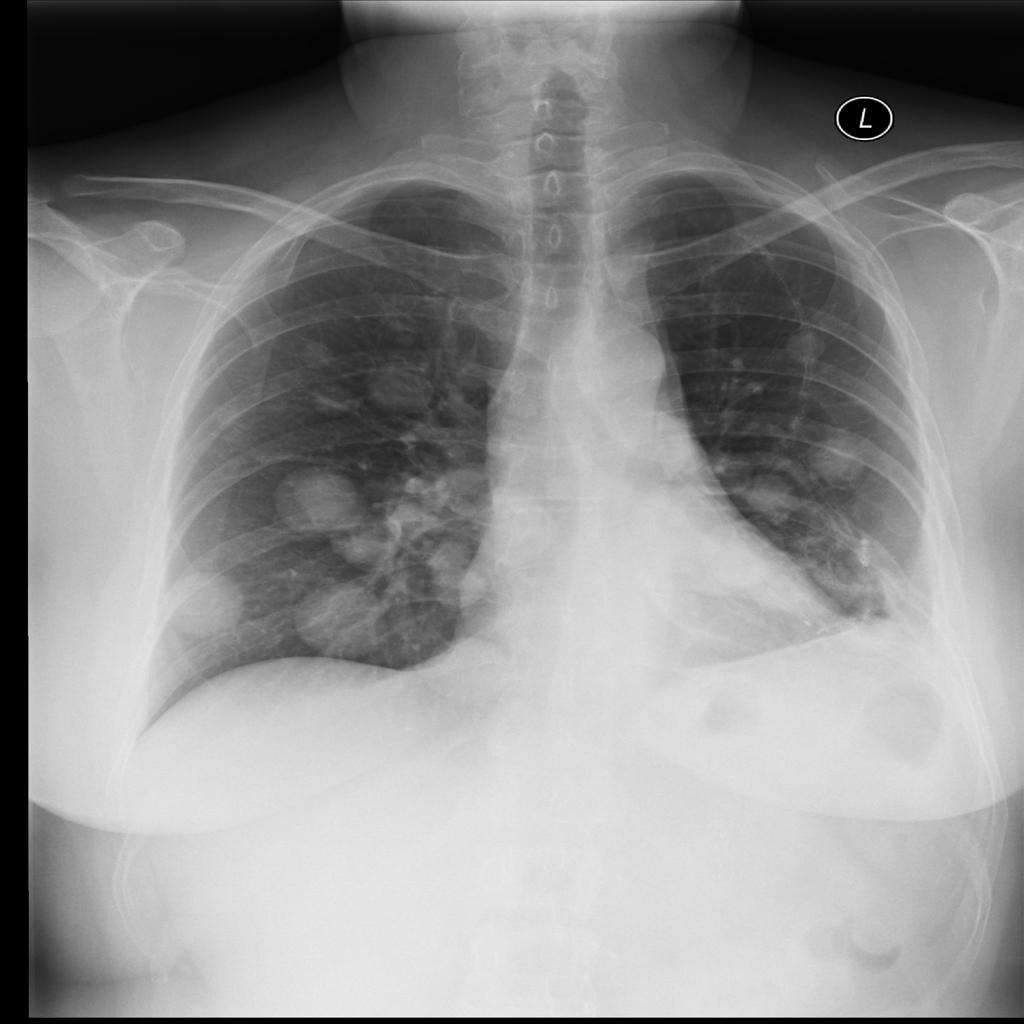nodule: (280, 572, 406, 668), (146, 554, 258, 653), (273, 467, 363, 538), (794, 420, 878, 493), (361, 347, 441, 420), (730, 462, 810, 532), (770, 313, 845, 377), (302, 379, 367, 423), (200, 399, 257, 444), (287, 330, 348, 372)
